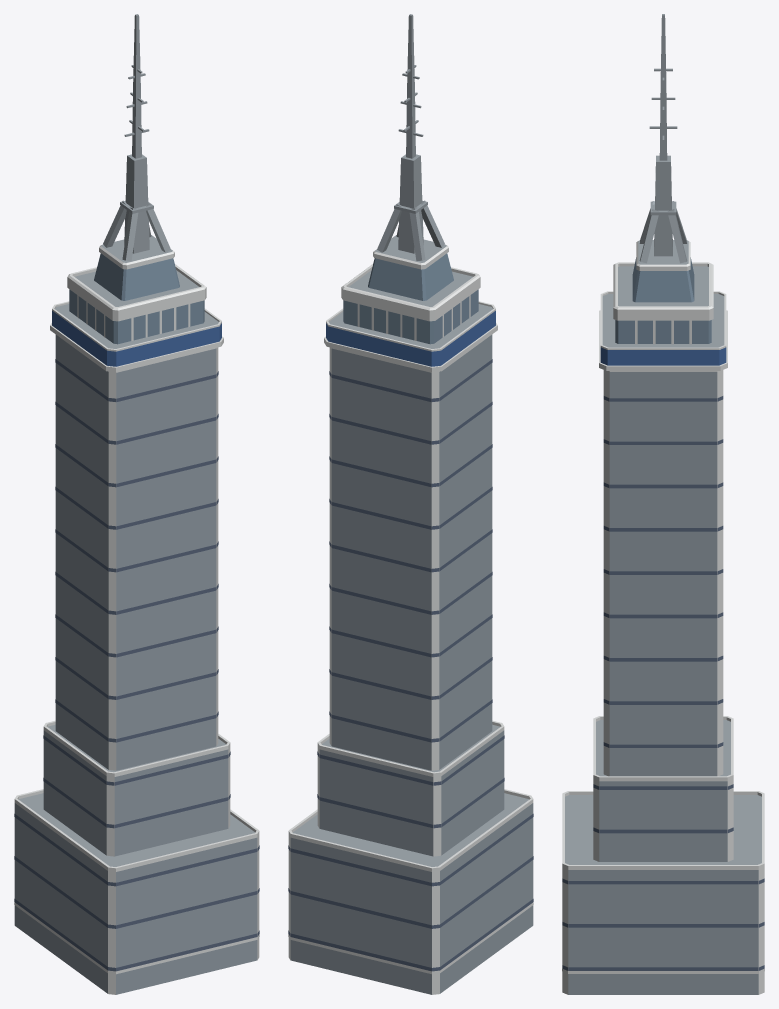
Rendered from mexico-city-torre-latinoamericana.glb.
3 views of the same model, side by side, from view 1: azimuth 30°, elevation 25°; view 2: azimuth 150°, elevation 25°; view 3: azimuth 270°, elevation 25° (orthographic).
Parts seen in each view (by area): view 1: Torre Latinoamericana; view 2: Torre Latinoamericana; view 3: Torre Latinoamericana.
Part boxes in pixels (left/top/right/bottom): Torre Latinoamericana: left=14, top=14, right=259, bottom=994; Torre Latinoamericana: left=288, top=14, right=533, bottom=994; Torre Latinoamericana: left=562, top=14, right=764, bottom=994.
Bounding box in the file's own units: 33.62 × 196 × 38.22.
